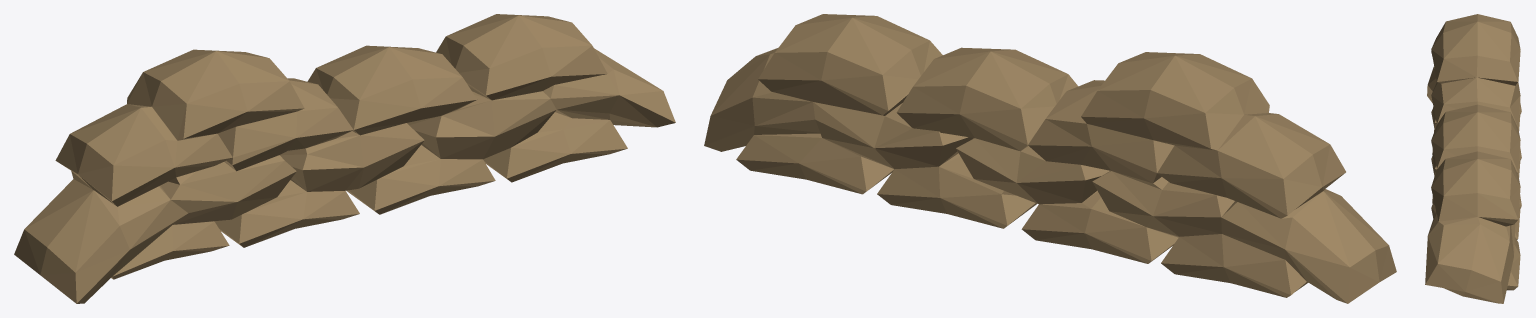
Rendered from model_Sandbags_01.fbx.
3 renders of one model, left to right at view 1: azimuth 30°, elevation 25°; view 2: azimuth 150°, elevation 25°; view 3: azimuth 270°, elevation 25°, orthographic. The views are drawn at different scales.
Visible parts, largest first — view 1: model_Sandbags_01; view 2: model_Sandbags_01; view 3: model_Sandbags_01.
Part boxes in pixels (x1,y1,x2,y2): model_Sandbags_01: (14,14,675,303); model_Sandbags_01: (704,14,1396,303); model_Sandbags_01: (1425,14,1521,303).
Size of the model in its own units: 300 by 89.34 by 55.44.
Materials: 1 (1 with a texture image).
